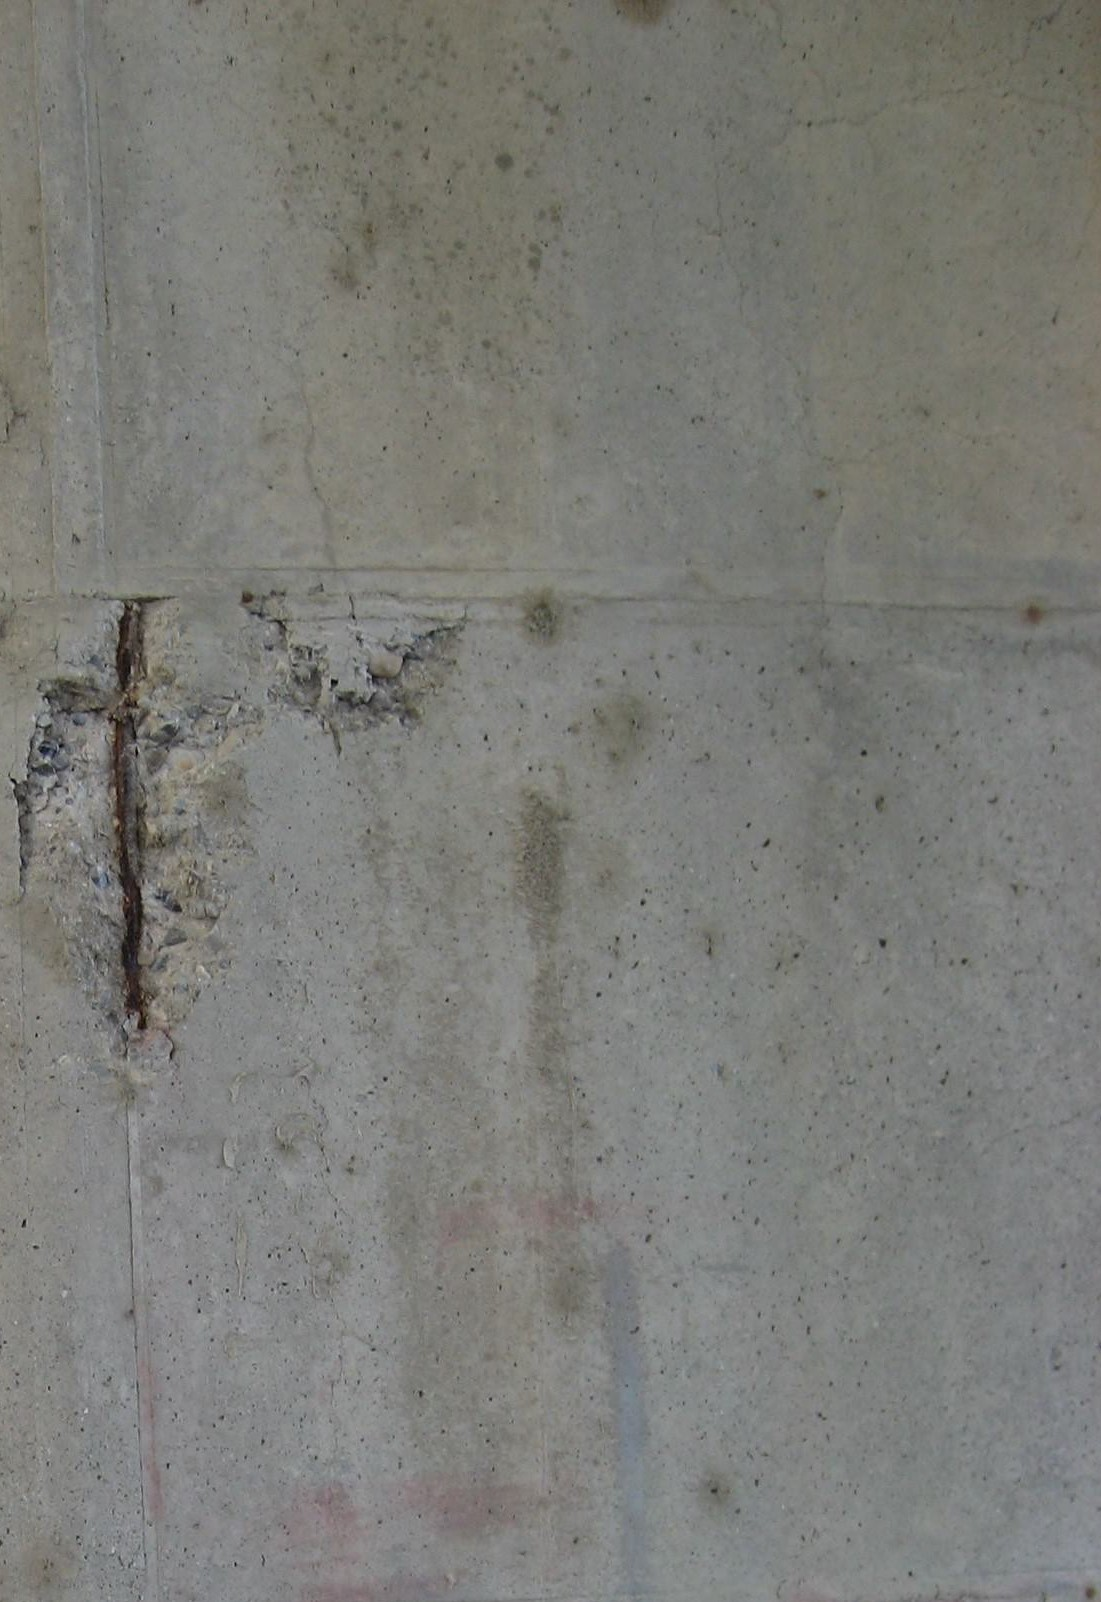Exposed reinforcement: (116, 601, 150, 1034)
Spalling: (9, 596, 259, 1036), (247, 607, 464, 757), (526, 600, 555, 635)
